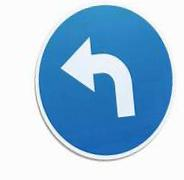left: (57, 31, 147, 121)
